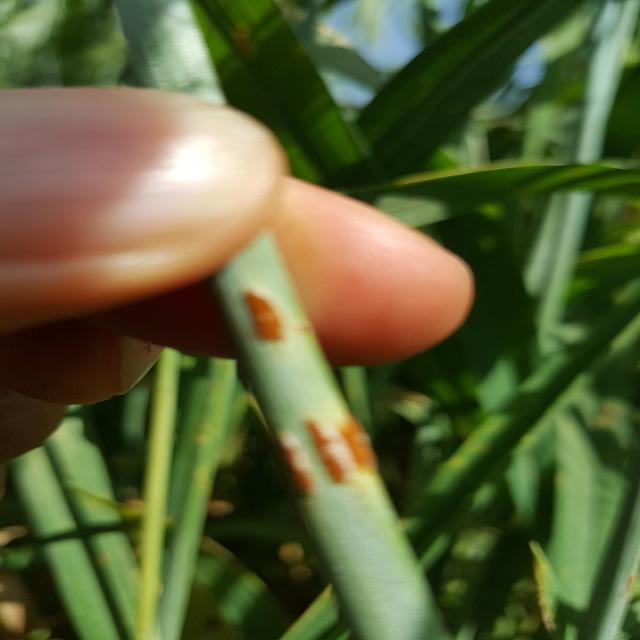wheat-stemrust: (305, 421, 347, 486), (339, 414, 384, 473), (280, 436, 318, 499), (242, 293, 284, 343)
